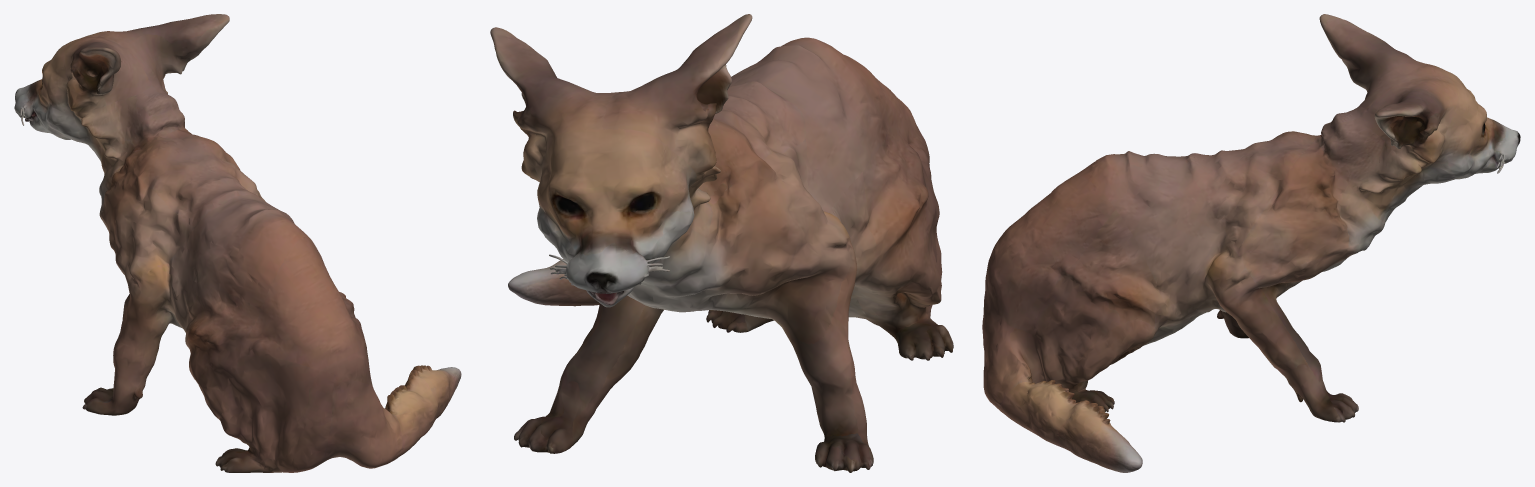
Rendered from uk-fox.glb.
3 renders of one model, left to right at view 1: azimuth 30°, elevation 25°; view 2: azimuth 150°, elevation 25°; view 3: azimuth 270°, elevation 25°, orthographic. The views are drawn at different scales.
Parts seen in each view (by area): view 1: tripo_node_fdf61f0a-2f98-4ee4-ac58-86fc6aae9d6f; view 2: tripo_node_fdf61f0a-2f98-4ee4-ac58-86fc6aae9d6f; view 3: tripo_node_fdf61f0a-2f98-4ee4-ac58-86fc6aae9d6f.
Part boxes in pixels (x1,y1,x2,y2): tripo_node_fdf61f0a-2f98-4ee4-ac58-86fc6aae9d6f: (14,14,461,472); tripo_node_fdf61f0a-2f98-4ee4-ac58-86fc6aae9d6f: (490,14,953,472); tripo_node_fdf61f0a-2f98-4ee4-ac58-86fc6aae9d6f: (982,14,1520,472).
Bounding box in the file's own units: 0.6846 × 0.6966 × 0.9999.
Materials: 1 (1 with a texture image).
